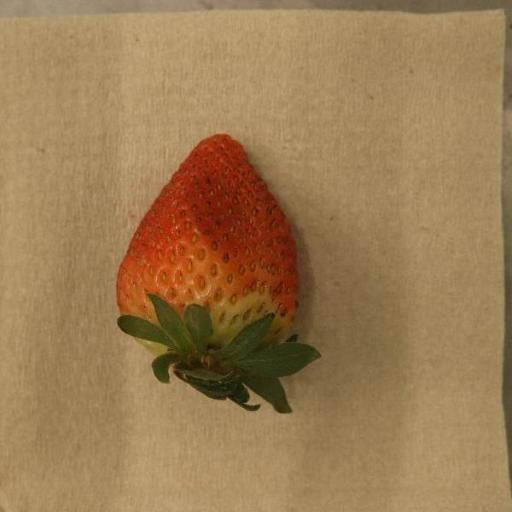Strawberry: (116, 134, 322, 415)
